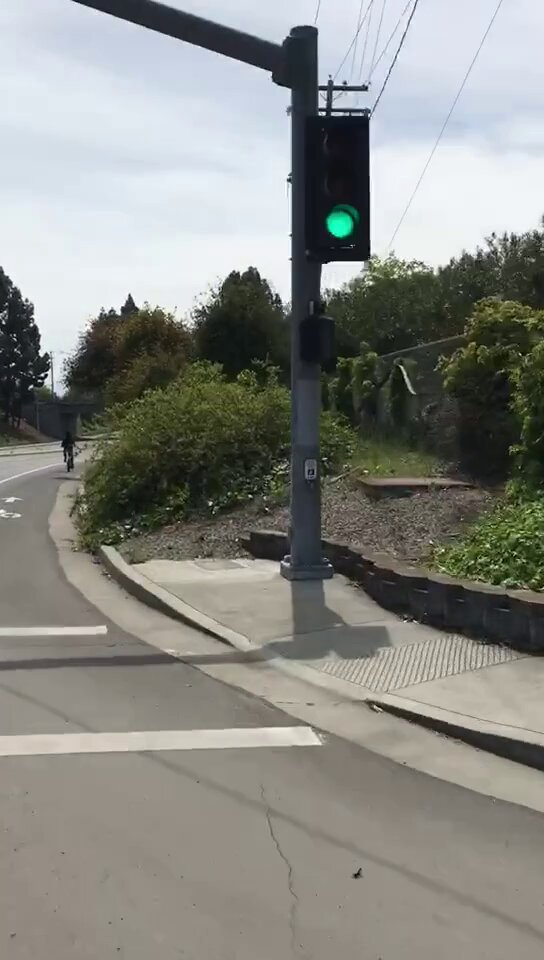green_light: (317, 120, 367, 256)
